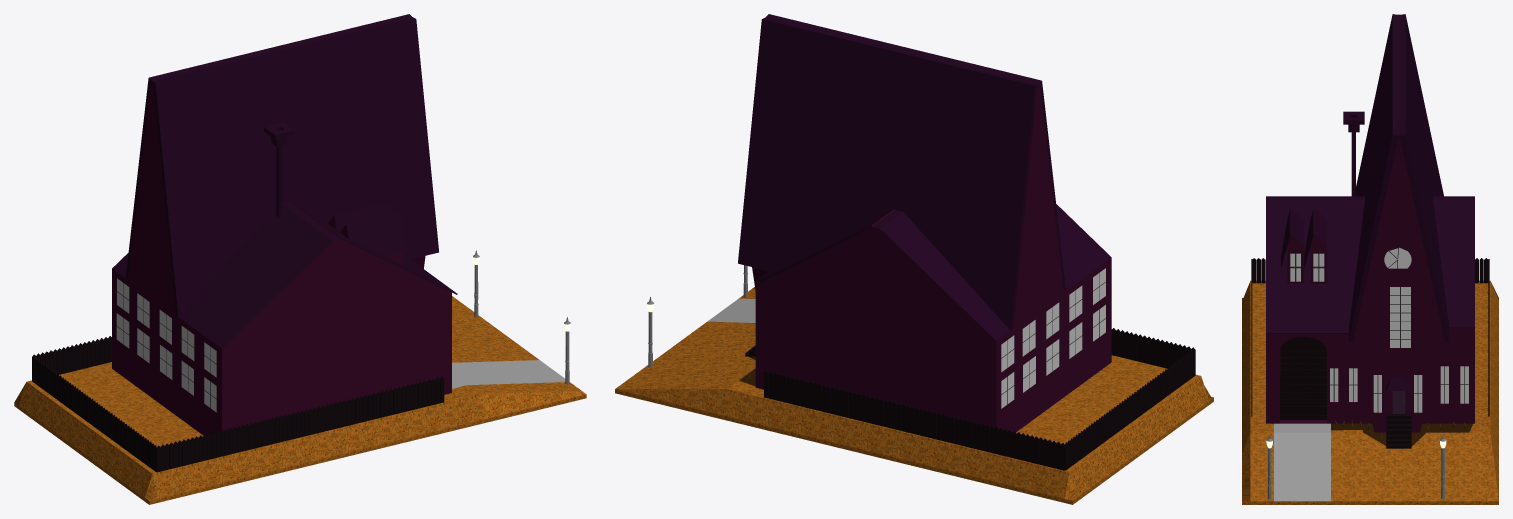
File: Gru House.glb
3 renders of one model, left to right at view 1: azimuth 30°, elevation 25°; view 2: azimuth 150°, elevation 25°; view 3: azimuth 270°, elevation 25°, orthographic. The views are drawn at different scales.
Visible parts, largest first — view 1: Ext Walls, Ground, Fence, Window, Window Out.001, Chimney, Streetlight; view 2: Ext Walls, Ground, Fence, Window; view 3: Ext Walls, Ground, Window, Garage Door, Window Out.001, Fence, Porch Stairs, Chimney, Streetlight.
Part boxes in pixels (<box>): Ext Walls: <box>112,14,457,435</box>; Ground: <box>14,296,586,504</box>; Fence: <box>32,336,444,472</box>; Window: <box>116,278,216,412</box>; Window Out.001: <box>328,202,406,264</box>; Chimney: <box>264,122,294,217</box>; Streetlight: <box>473,250,570,384</box>; Ext Walls: <box>738,14,1111,432</box>; Ground: <box>615,287,1213,504</box>; Fence: <box>764,328,1195,470</box>; Window: <box>1001,268,1105,408</box>; Ext Walls: <box>1266,14,1474,432</box>; Ground: <box>1242,280,1498,504</box>; Window: <box>1330,247,1468,413</box>; Garage Door: <box>1280,337,1326,419</box>; Window Out.001: <box>1281,208,1327,283</box>; Fence: <box>1251,258,1489,416</box>; Porch Stairs: <box>1386,414,1411,448</box>; Chimney: <box>1343,111,1364,196</box>; Streetlight: <box>1266,434,1446,499</box>.
Size of the model in its own units: 34.73 by 26.09 by 18.56.
13 materials, 1 textured.
